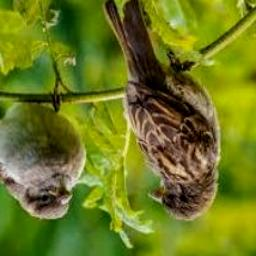Sparrow: (103, 0, 220, 222), (0, 84, 86, 219)
